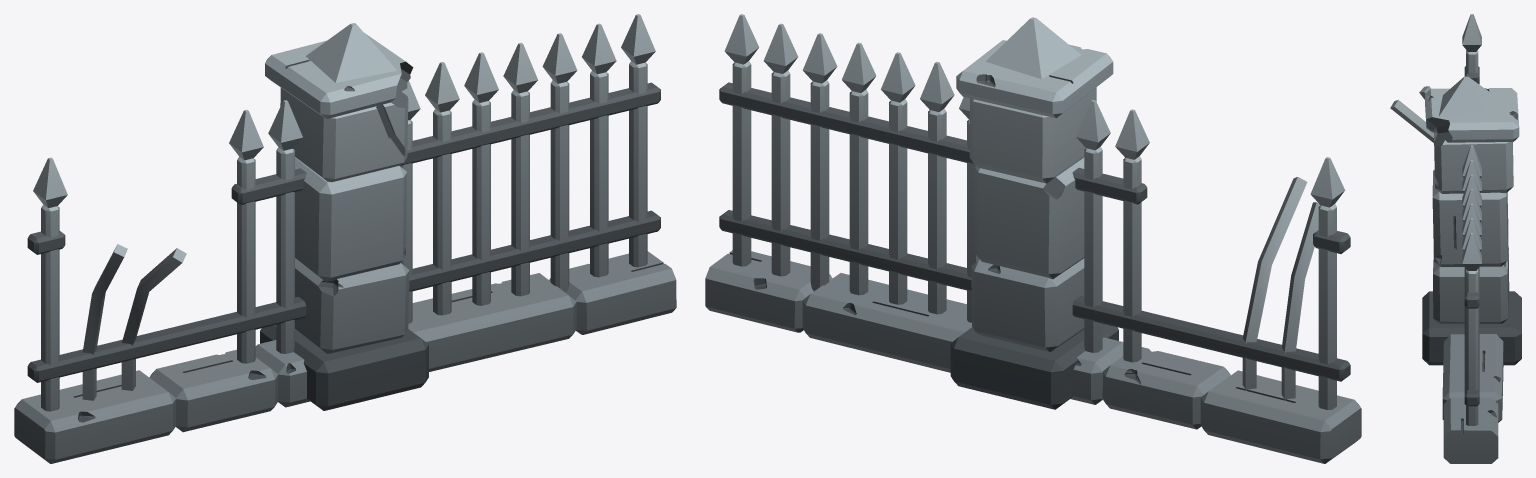
Rendered from graveyard_fence_broken.glb.
3 renders of one model, left to right at view 1: azimuth 30°, elevation 25°; view 2: azimuth 150°, elevation 25°; view 3: azimuth 270°, elevation 25°, orthographic. The views are drawn at different scales.
Parts seen in each view (by area): view 1: graveyard_fence_broken; view 2: graveyard_fence_broken; view 3: graveyard_fence_broken.
Part boxes in pixels (left/top/right/bottom): graveyard_fence_broken: left=14, top=14, right=676, bottom=463; graveyard_fence_broken: left=705, top=14, right=1361, bottom=463; graveyard_fence_broken: left=1390, top=14, right=1521, bottom=463.
Size of the model in its own units: 4 by 2.17 by 0.953.
Materials: 1 (1 with a texture image).
